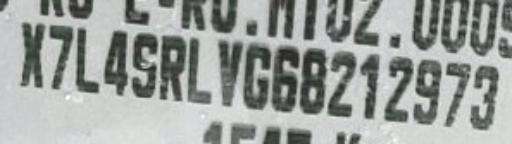letter: (408, 53, 448, 127), (294, 42, 334, 115), (234, 40, 276, 109), (466, 61, 508, 130), (322, 45, 360, 118), (96, 28, 136, 95), (14, 19, 50, 92), (439, 55, 475, 128), (43, 20, 79, 91), (126, 29, 162, 100), (267, 40, 303, 111), (382, 49, 416, 123), (154, 33, 190, 102), (356, 48, 388, 124), (184, 36, 218, 105), (214, 36, 248, 105), (74, 24, 100, 93)
